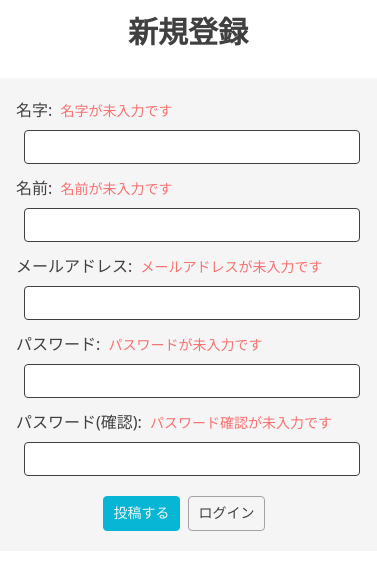
it: validation › should show alert when last-name isn't filled in
Type "01" into the field with test id "first-name-input" at (192, 147), box [24,130,360,164]
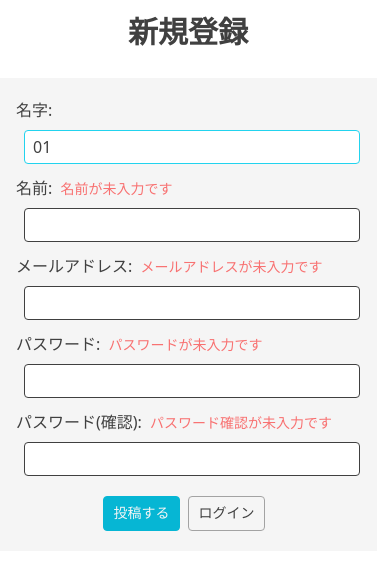
Type "01" into the field with test id "last-name-input" at (192, 225), box [24,208,360,242]
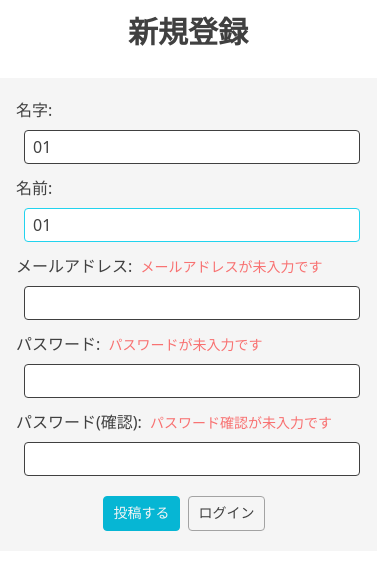
Type "01@test.io" into the field with test id "email-input" at (192, 303), box [24,286,360,320]
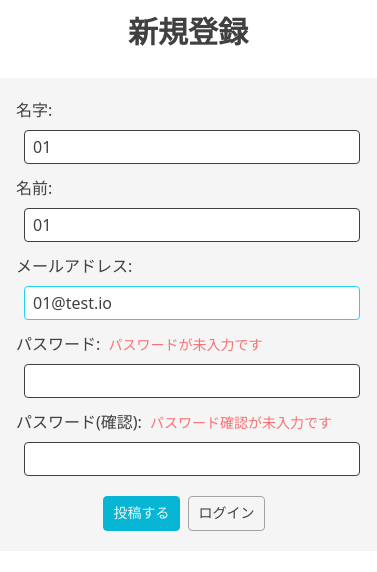
Type "1234" into the password field with test id "password-input" at (192, 381), box [24,364,360,398]
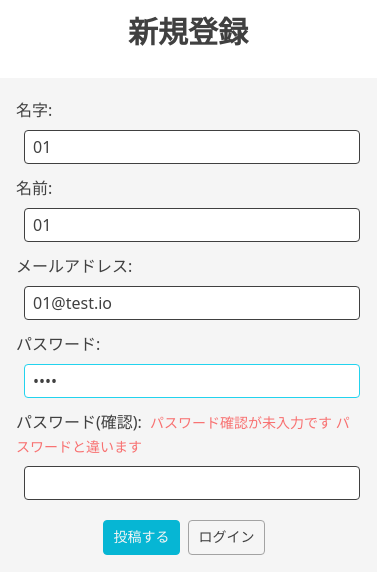
Type "1234" into the password field with test id "password-confirm-input" at (192, 483), box [24,466,360,500]
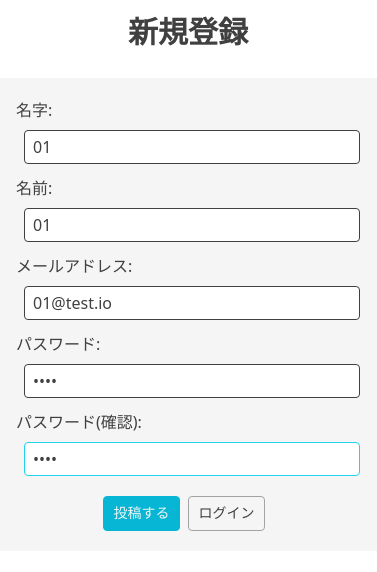
Clear the field with test id "last-name-input" at (192, 225), box [24,208,360,242]
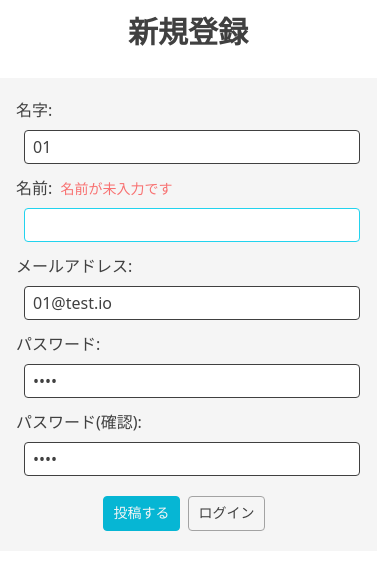
Expected: the text "名前が未入力です" is shown, [60,179,172,198]
